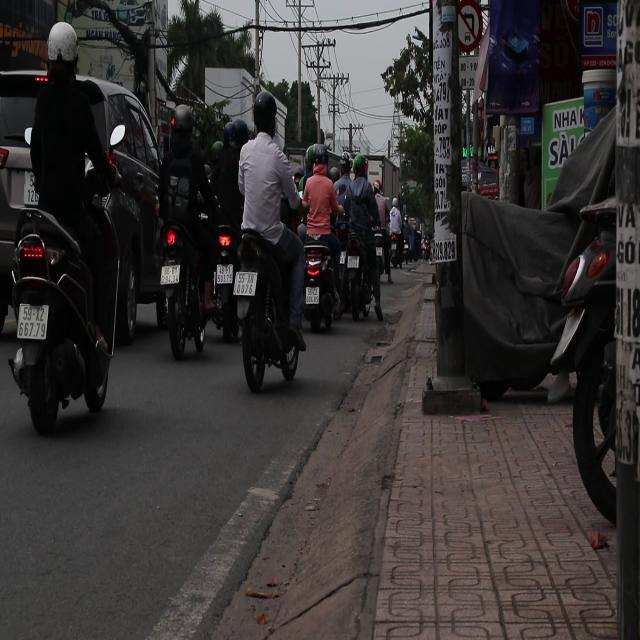motorbike: (4, 169, 116, 430), (238, 226, 308, 393), (154, 197, 219, 359), (338, 220, 384, 324), (298, 237, 343, 333)
